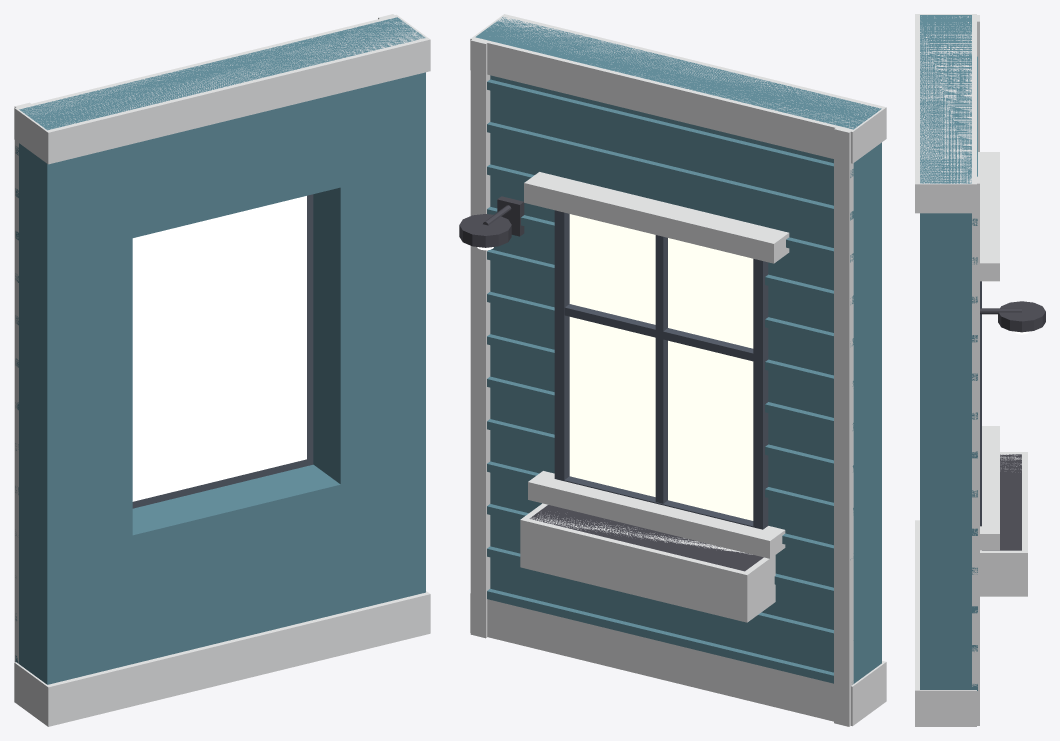
File: sample_modular_wall.glb
3 views of the same model, side by side, from view 1: azimuth 30°, elevation 25°; view 2: azimuth 150°, elevation 25°; view 3: azimuth 270°, elevation 25° (orthographic). The views are drawn at different scales.
Parts seen in each view (by area): view 1: ModularWall_SuburbanWindow; view 2: ModularWall_SuburbanWindow; view 3: ModularWall_SuburbanWindow.
Part boxes in pixels (x1=…): ModularWall_SuburbanWindow: x1=14, y1=14, x2=430, y2=726; ModularWall_SuburbanWindow: x1=459, y1=14, x2=886, y2=726; ModularWall_SuburbanWindow: x1=915, y1=14, x2=1045, y2=726.
Size of what is drawn, in the model's own units: 2.02 by 3 by 0.655.
